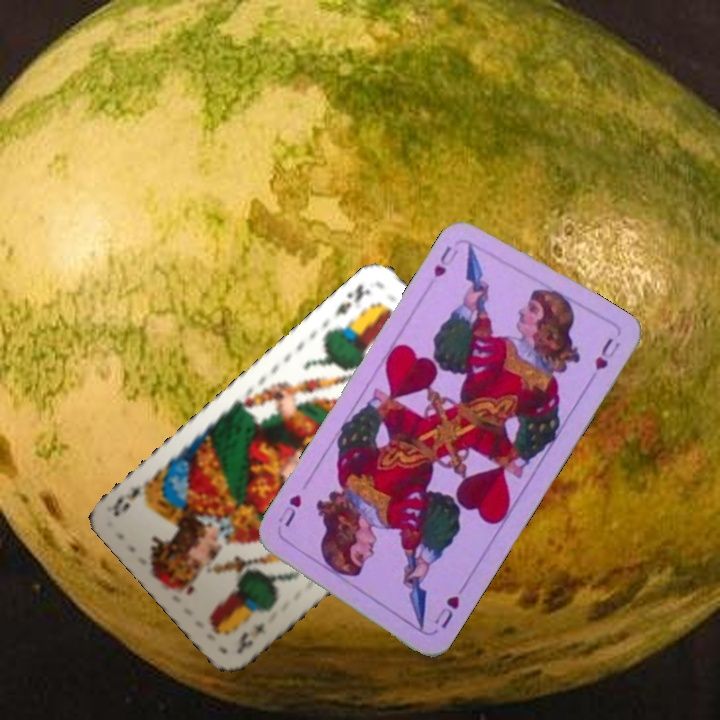EK: (330, 279, 374, 319), (232, 618, 268, 656)
HU: (430, 591, 462, 632), (429, 241, 461, 280)
